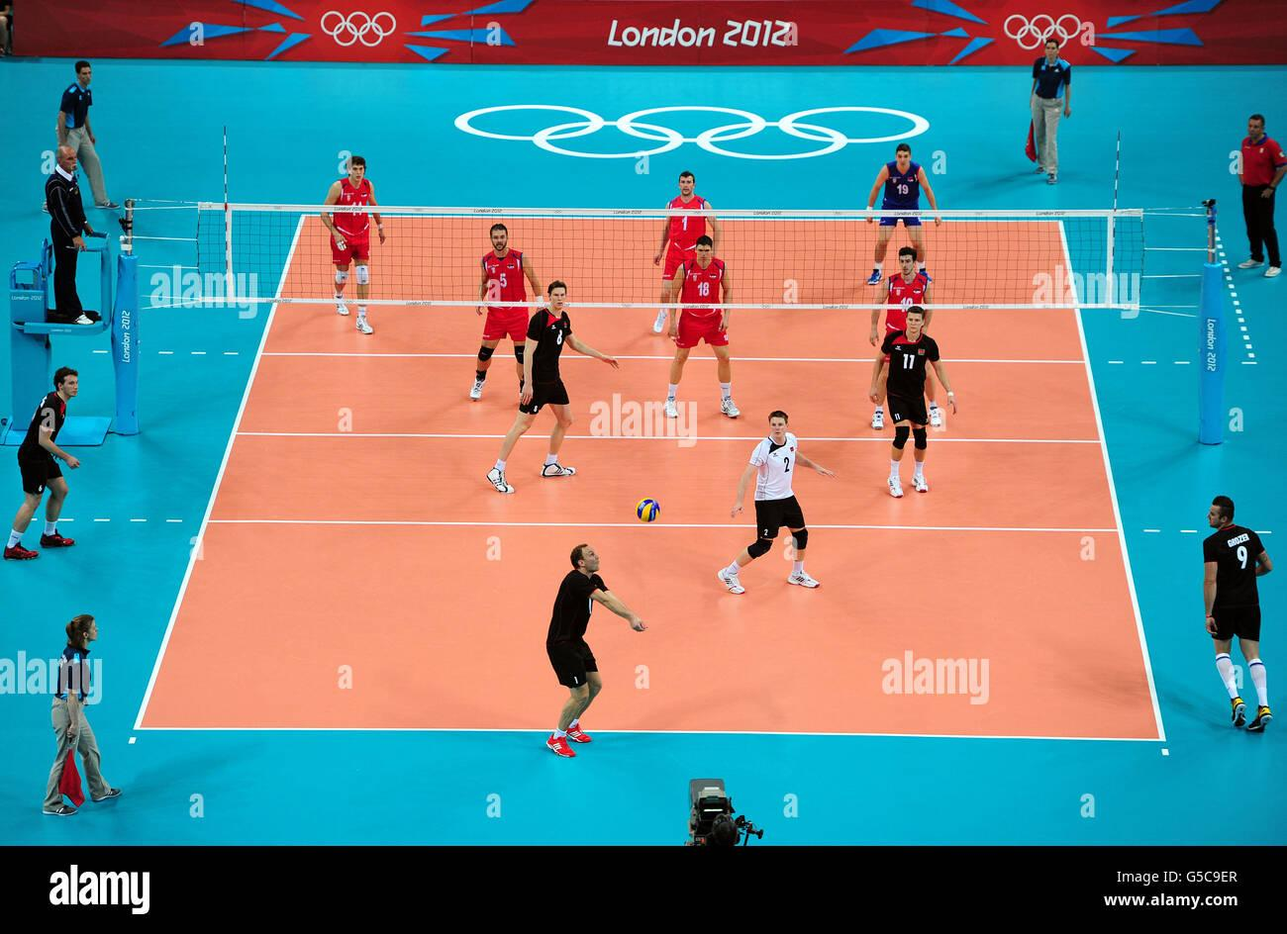ballon_volley: (635, 497, 661, 523)
